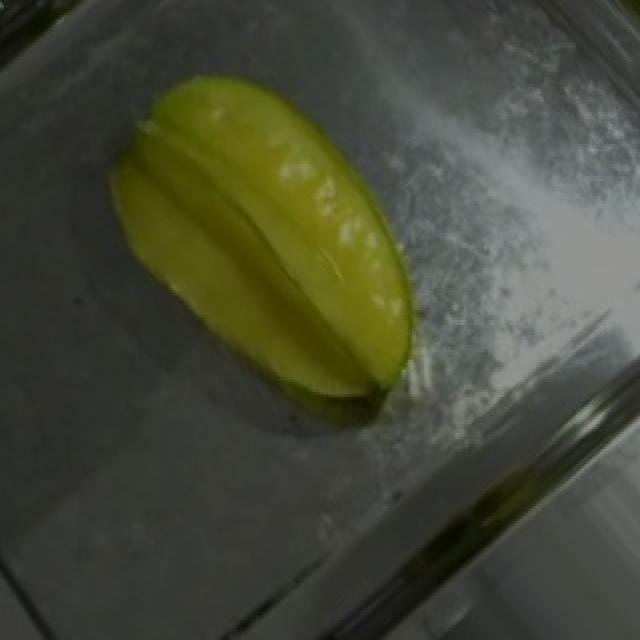fruit: (84, 18, 468, 410)
